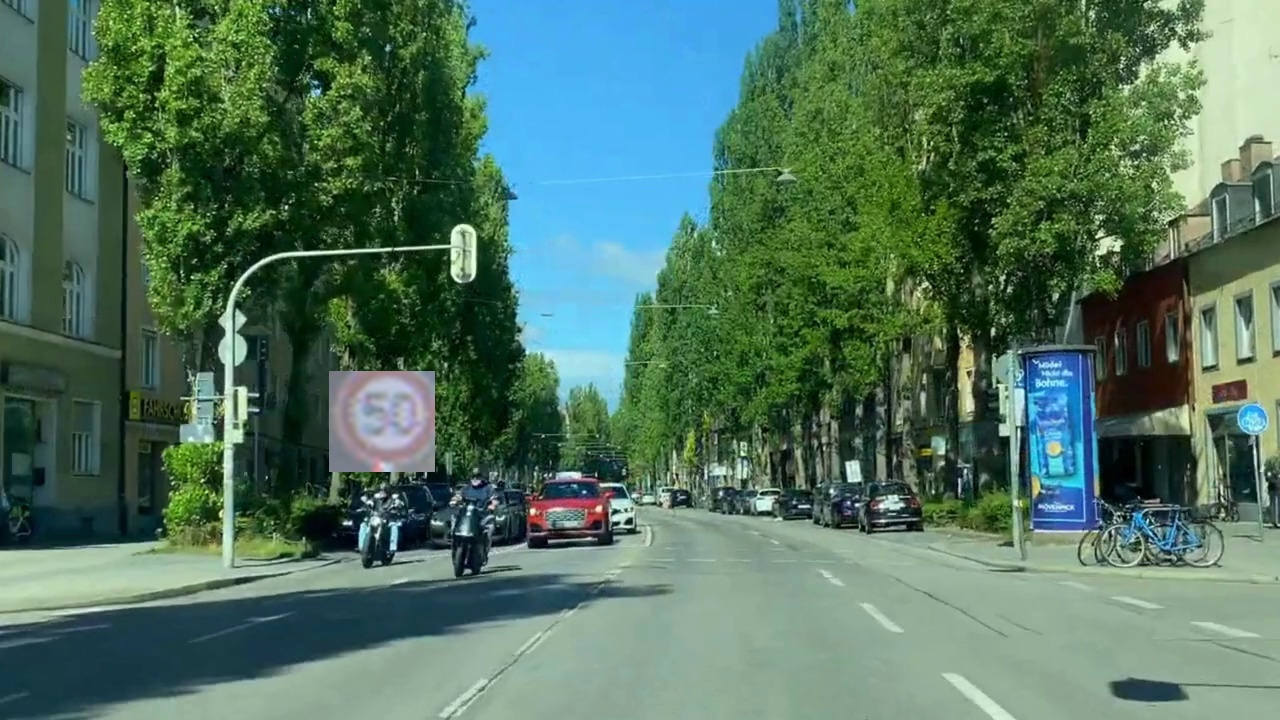Speed 50: (329, 371, 435, 472)
